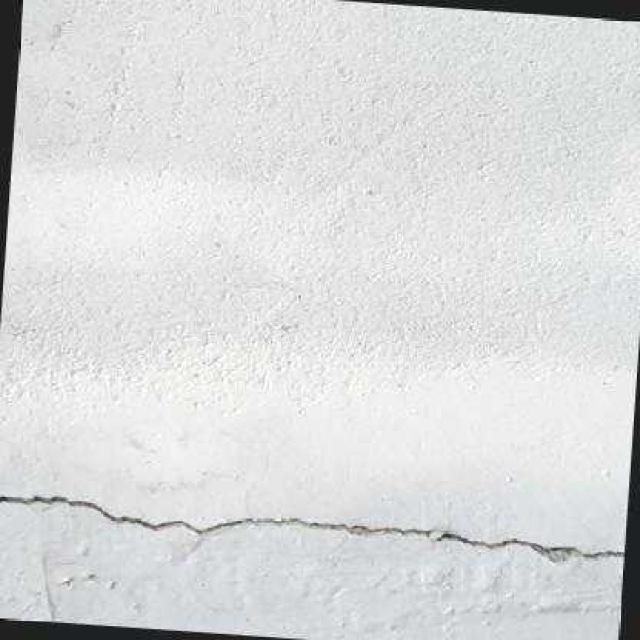D00: (0, 492, 620, 567)
